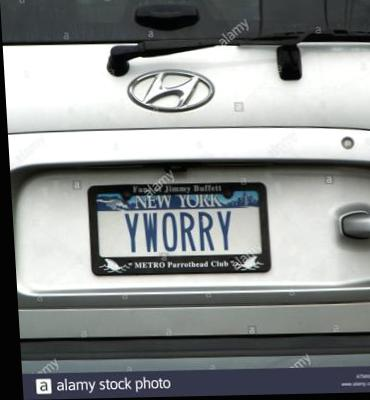License_Plate: (96, 190, 261, 256)
